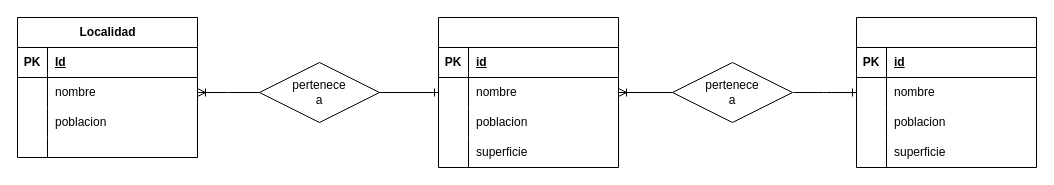
Some shapes in this 1054 by 185 pixel diagram are drawn without their labels. Here are the shapes that lost their labels. From the top down, the box of each, then its label:
(438, 16, 618, 168): Provincia
(856, 16, 1036, 168): ComunidadAutonoma
